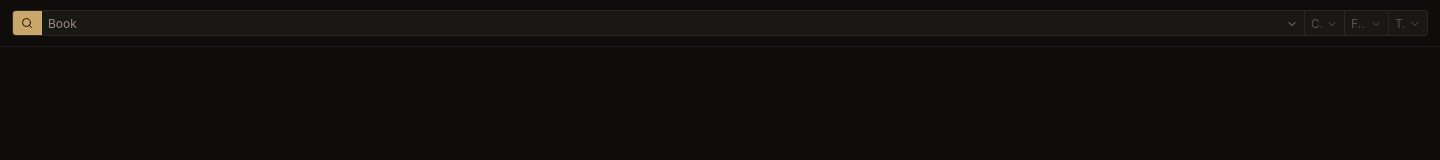
ScriptureSearchPanel › toggles to text mode and shows search input
Click the button named "Free-text search" at coordinates (28, 23), box [13, 11, 42, 35]
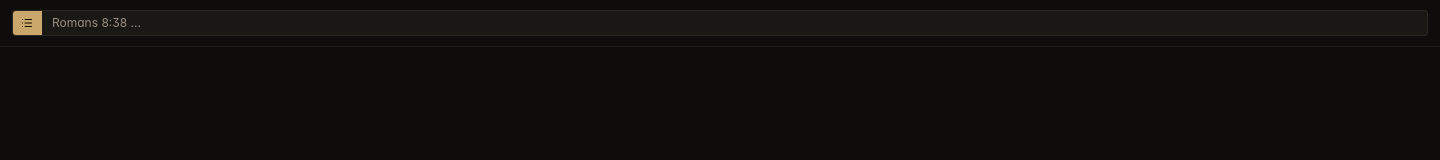
Expected: the field with placeholder "Romans 8:38 ..." is shown, [42, 11, 1427, 35]
